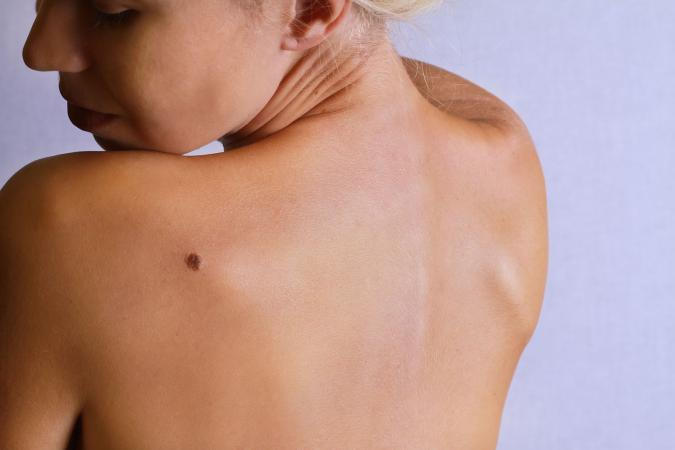mole: (174, 246, 211, 281)
